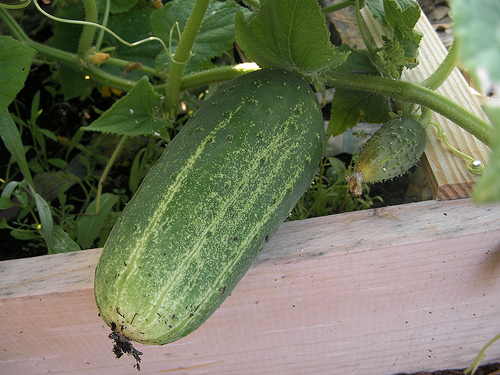cucumber: (91, 66, 327, 374)
